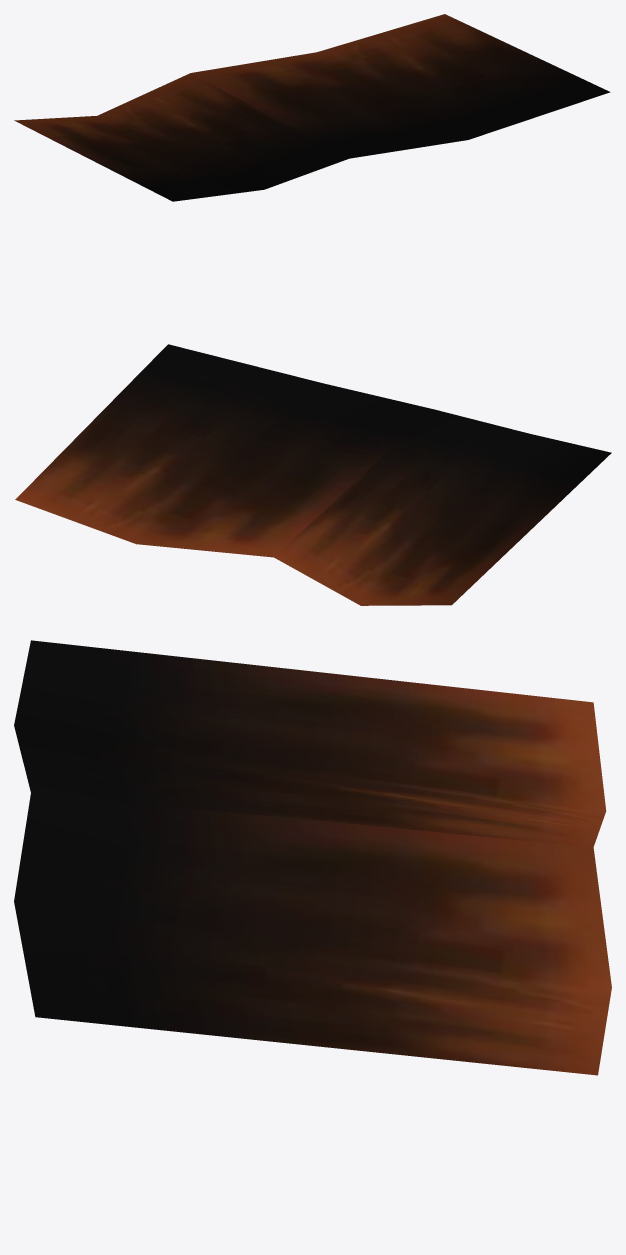
File: EarthQuake08.glb
3 views of the same model, one above another, from view 1: azimuth 30°, elevation 25°; view 2: azimuth 150°, elevation 25°; view 3: azimuth 270°, elevation 25° (orthographic). The views are drawn at different scales.
Visible parts, largest first — view 1: model_EarthQuake08; view 2: model_EarthQuake08; view 3: model_EarthQuake08.
Boxes of the visible parts, x1,y1,x2,y2 form: model_EarthQuake08: [14, 14, 610, 201]; model_EarthQuake08: [15, 344, 611, 605]; model_EarthQuake08: [14, 640, 611, 1075].
Bounding box in the file's own units: 0.8744 × 0.251 × 0.5809.
Materials: 1 (1 with a texture image).
